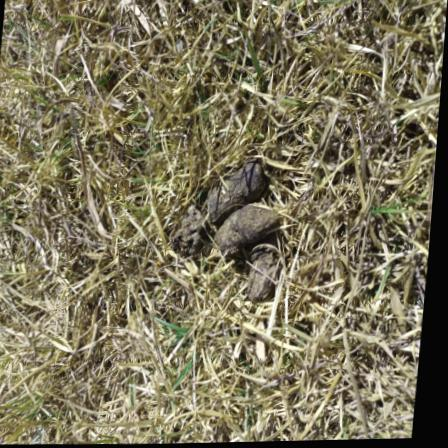dog-poop: (154, 143, 311, 321)
